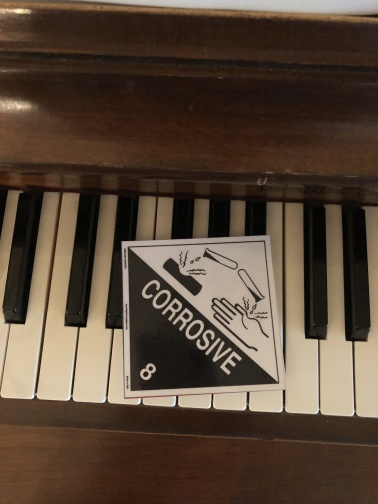Corrosive: (123, 240, 286, 397)
